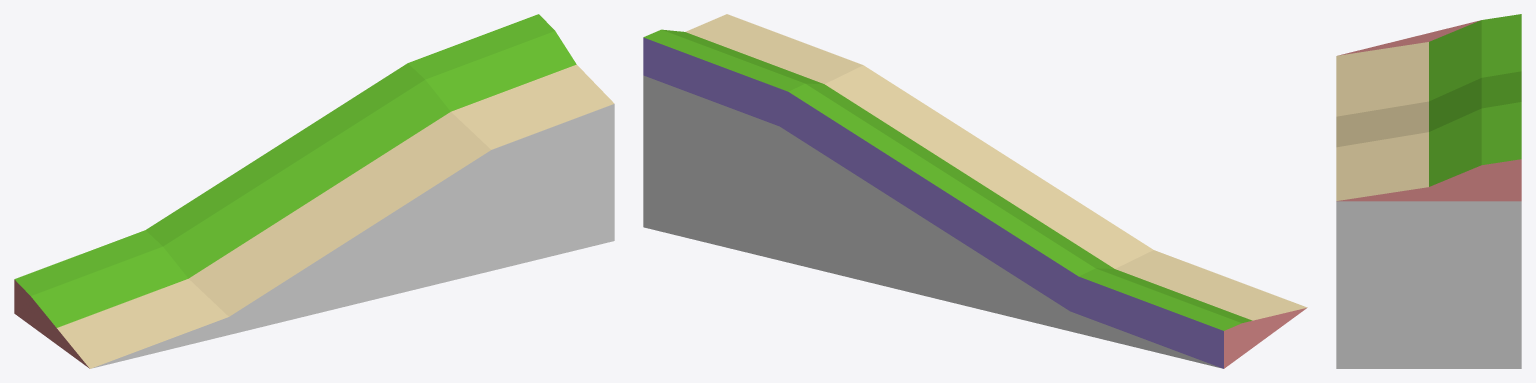
File: Path_Terrain_Incline_Gentle_Edge_1x4.glb
The picture shows the model from 3 angles, left to right: view 1: azimuth 30°, elevation 25°; view 2: azimuth 150°, elevation 25°; view 3: azimuth 270°, elevation 25°; orthographic projection. The views are drawn at different scales.
Visible parts, largest first — view 1: Path_Terrain_Incline_Gentle_Edge_1x4; view 2: Path_Terrain_Incline_Gentle_Edge_1x4; view 3: Path_Terrain_Incline_Gentle_Edge_1x4.
Boxes of the visible parts, bbox=[...] form: Path_Terrain_Incline_Gentle_Edge_1x4: bbox=[14, 14, 614, 368]; Path_Terrain_Incline_Gentle_Edge_1x4: bbox=[643, 14, 1307, 368]; Path_Terrain_Incline_Gentle_Edge_1x4: bbox=[1336, 14, 1521, 368].
Bounding box in the file's own units: 400 × 125 × 100.
